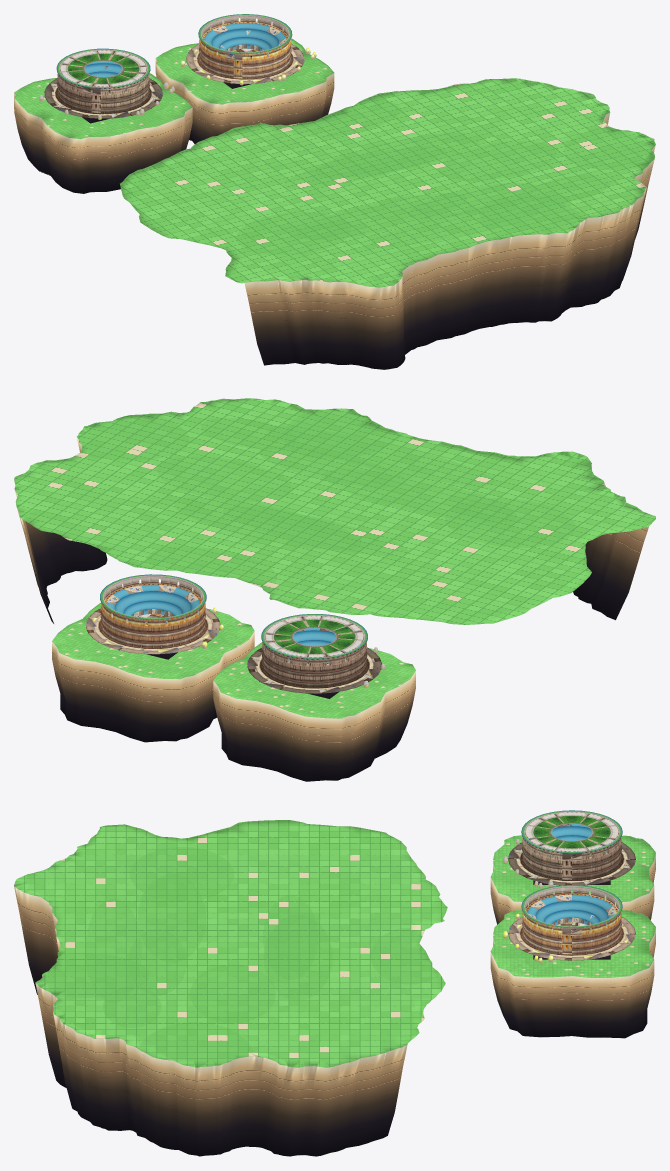
File: digi_farm_3d.glb
3 views of the same model, one above another, from view 1: azimuth 30°, elevation 25°; view 2: azimuth 150°, elevation 25°; view 3: azimuth 270°, elevation 25° (orthographic). The views are drawn at different scales.
Parts seen in each view (by area): view 1: Island, IlandColosseum.002, IlandColosseum.001, FarmColosseum_C, FarmColosseum_O.001; view 2: Island, IlandColosseum.002, IlandColosseum.001, FarmColosseum_O.001, FarmColosseum_C; view 3: Island, IlandColosseum.001, FarmColosseum_O.001, FarmColosseum_C, IlandColosseum.002.
Part boxes in pixels (x1,y1,x2,y2): Island: [120, 78, 655, 369]; IlandColosseum.002: [14, 73, 192, 193]; IlandColosseum.001: [155, 38, 334, 143]; FarmColosseum_C: [39, 48, 174, 119]; FarmColosseum_O.001: [181, 14, 316, 85]; Island: [14, 398, 655, 624]; IlandColosseum.002: [213, 642, 415, 781]; IlandColosseum.001: [52, 603, 254, 742]; FarmColosseum_O.001: [86, 574, 223, 654]; FarmColosseum_C: [247, 614, 385, 693]; Island: [14, 820, 447, 1156]; IlandColosseum.001: [490, 909, 655, 1038]; FarmColosseum_O.001: [502, 885, 635, 963]; FarmColosseum_C: [502, 810, 635, 888]; IlandColosseum.002: [490, 835, 655, 924].
Size of the model in its own units: 1.93 by 0.5038 by 2.11.
4 materials, 4 textured.
